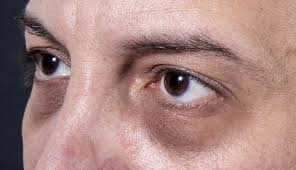puffy eyes: (137, 93, 257, 135), (30, 82, 60, 112)
